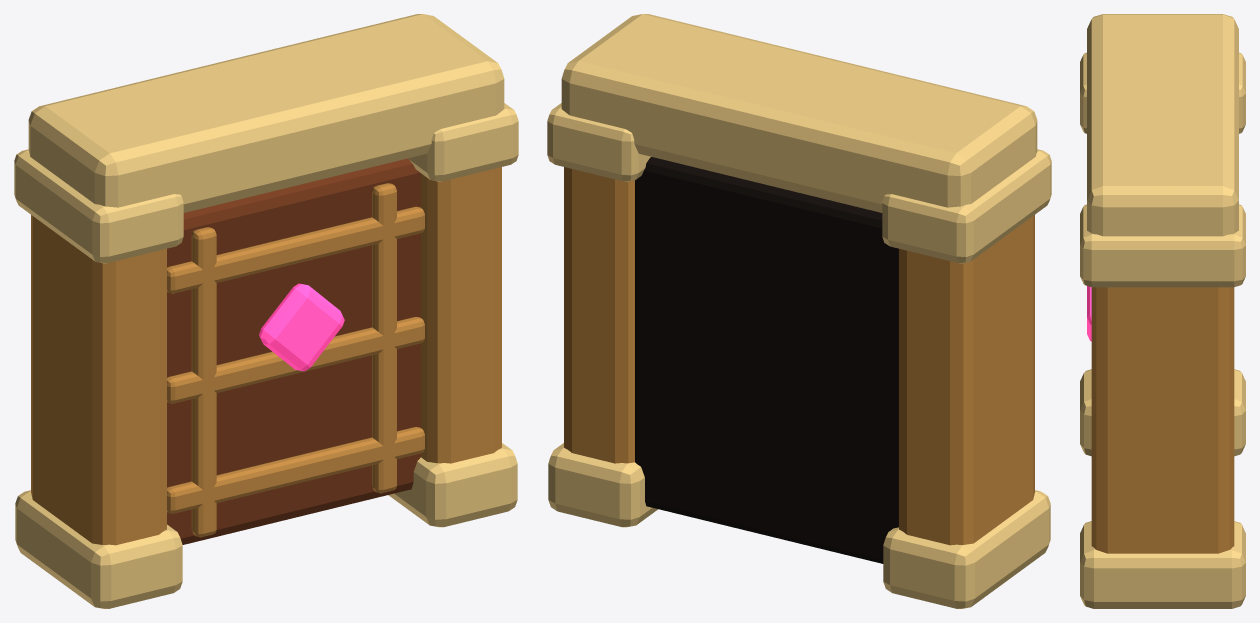
Rendered from porta.glb.
3 renders of one model, left to right at view 1: azimuth 30°, elevation 25°; view 2: azimuth 150°, elevation 25°; view 3: azimuth 270°, elevation 25°, orthographic. The views are drawn at different scales.
Parts seen in each view (by area): view 1: Malha_Moldura_Porta, Painel_Movel_Porta; view 2: Malha_Moldura_Porta; view 3: Malha_Moldura_Porta, Painel_Movel_Porta.
Boxes of the visible parts, x1,y1,x2,y2 form: Malha_Moldura_Porta: [14, 14, 518, 608]; Painel_Movel_Porta: [167, 158, 424, 544]; Malha_Moldura_Porta: [547, 14, 1051, 608]; Malha_Moldura_Porta: [1080, 14, 1245, 608]; Painel_Movel_Porta: [1087, 286, 1091, 341].
Size of the model in its own units: 1.98 by 2 by 0.72.
